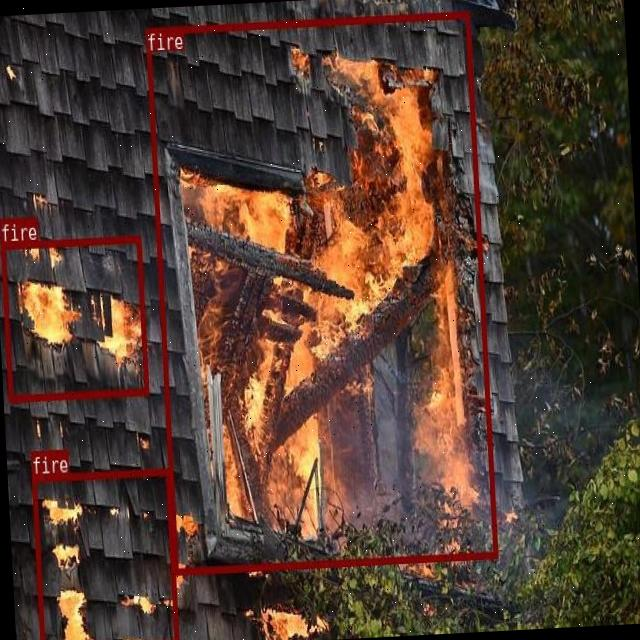fire: (145, 11, 498, 574), (31, 467, 177, 640), (0, 236, 148, 402)
